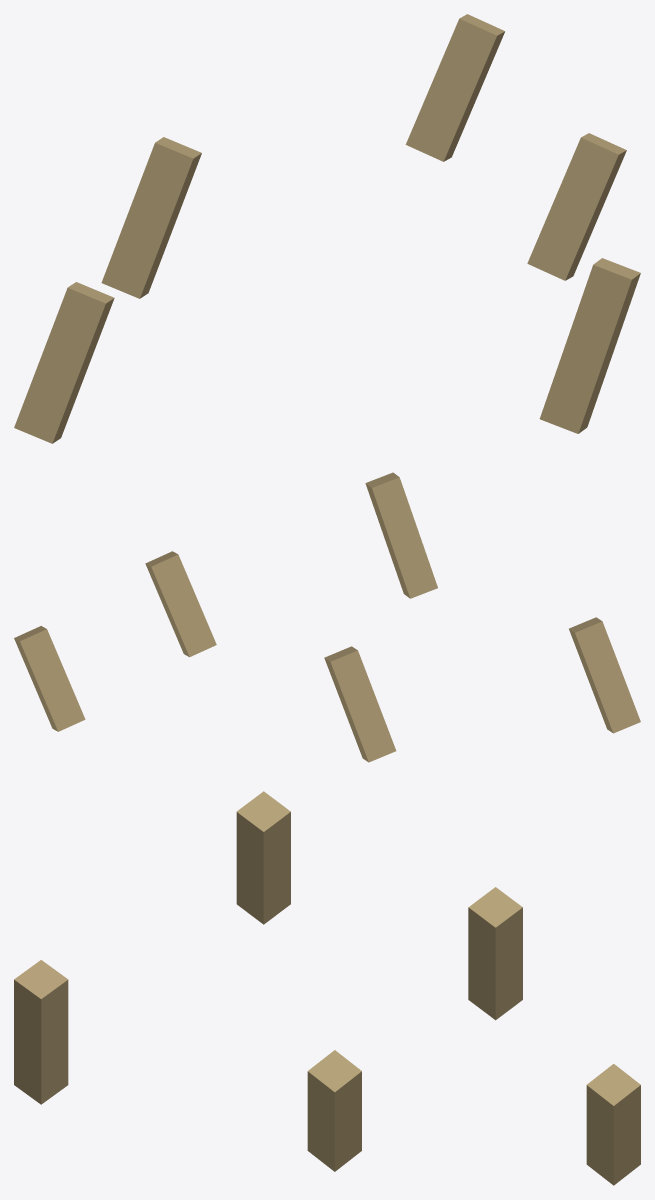
File: crop_flax_dormant.glb
3 renders of one model, top to bottom at view 1: azimuth 30°, elevation 25°; view 2: azimuth 150°, elevation 25°; view 3: azimuth 270°, elevation 25°, orthographic. The views are drawn at different scales.
Parts seen in each view (by area): view 1: crop_flax_dormant; view 2: crop_flax_dormant; view 3: crop_flax_dormant.
Boxes of the visible parts, bbox=[...] form: crop_flax_dormant: bbox=[14, 14, 640, 443]; crop_flax_dormant: bbox=[14, 472, 640, 762]; crop_flax_dormant: bbox=[14, 791, 640, 1185].
Bounding box in the file's own units: 0.3183 × 0.0728 × 0.2765.
